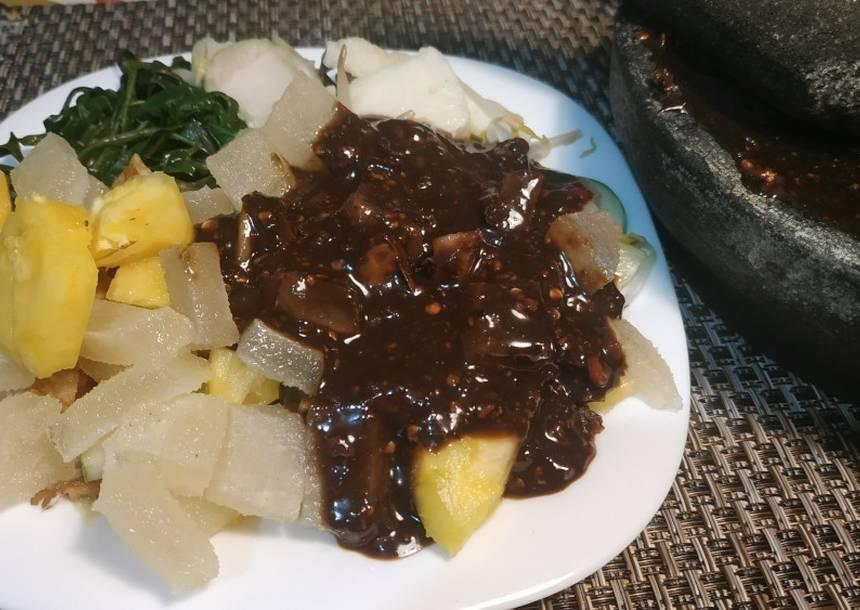rujak_cingur: (1, 40, 627, 593)
